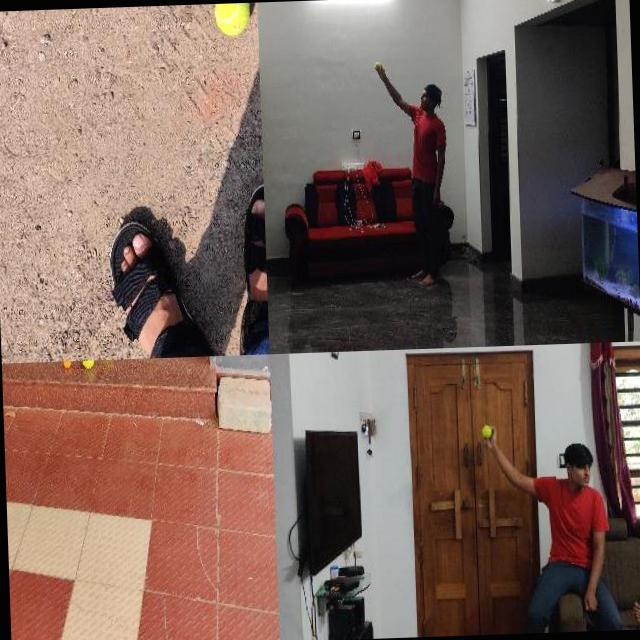Tennis Ball: (213, 2, 250, 36), (82, 360, 94, 370), (481, 424, 491, 436), (374, 61, 380, 69)
